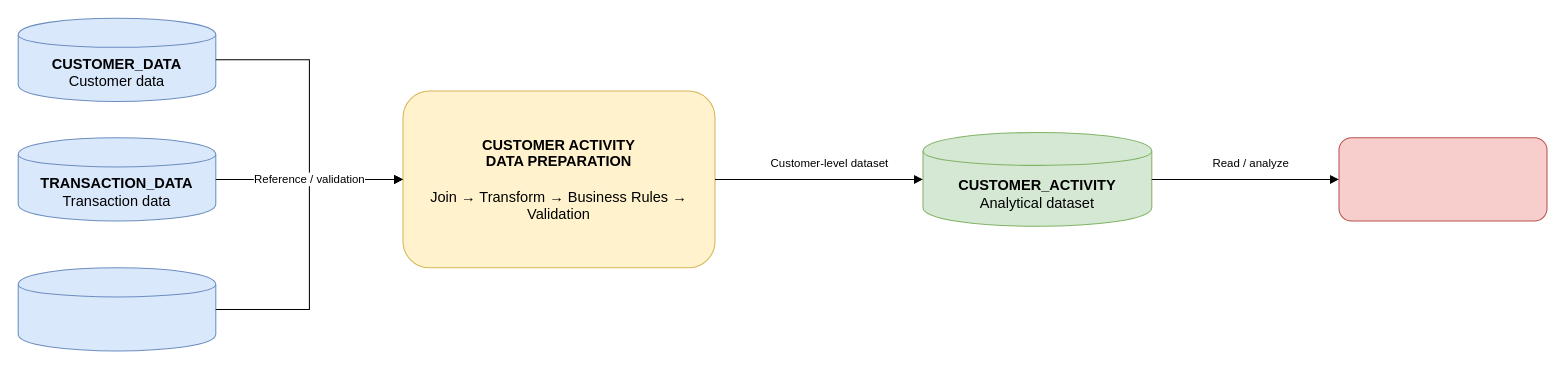
Some shapes in this 1565 by 369 pixel diagram are drawn without their labels. Here are the shapes that lost their labels. From the top down, the box of each, then its label:
(1338, 137, 1547, 221): POWER BI Reporting / Analytical use
(17, 267, 216, 351): BANK_DATA Branch reference data
